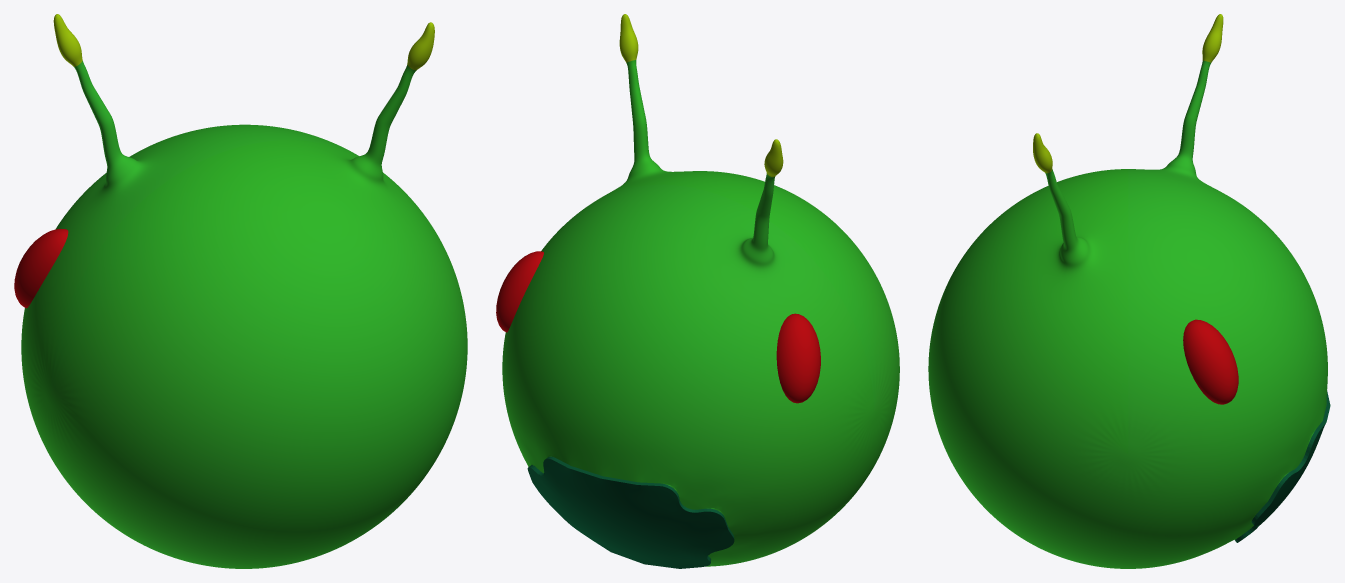
File: AlienBall.fbx
The picture shows the model from 3 angles, left to right: view 1: azimuth 30°, elevation 25°; view 2: azimuth 150°, elevation 25°; view 3: azimuth 270°, elevation 25°; orthographic projection. The views are drawn at different scales.
Parts seen in each view (by area): view 1: Head, Eye; view 2: Head, Eye; view 3: Head, Eye.
Boxes of the visible parts, x1,y1,x2,y2 form: Head: (21,14,467,568); Eye: (14,228,68,308); Head: (502,14,899,568); Eye: (496,251,820,403); Head: (928,14,1330,568); Eye: (1183,319,1238,404).
Bounding box in the file's own units: 0.9976 × 0.9936 × 1.3.
